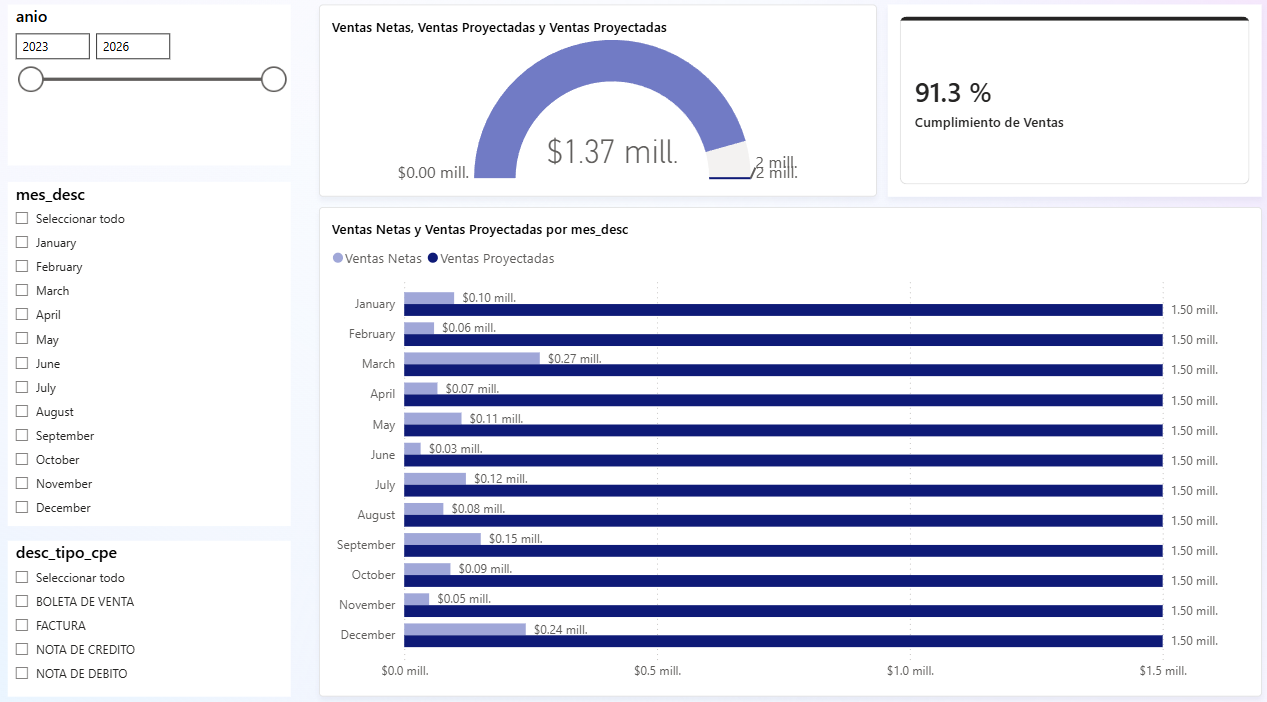

This screenshot's page, from the dashboard's own definition file:
{"tool":"powerbi","page":{"name":"KPI 1 - Cumplimiento de Ventas","canvas":[1280,720],"ordinal":2},"visuals":[{"type":"gauge","fields":{"Y":["_Medidas.Ventas Netas"],"TargetValue":["_Medidas.Ventas Proyectadas"],"MaxValue":["_Medidas.Ventas Proyectadas"]},"box":[323.8,12.5,555,191.2],"z":0},{"type":"cardVisual","fields":{"Data":["_Medidas.Cumplimiento de Ventas"]},"box":[890,12.5,372.5,191.2],"z":1000},{"type":"clusteredBarChart","fields":{"Category":["marts dim_fecha.mes_desc"],"Y":["_Medidas.Ventas Netas","_Medidas.Ventas Proyectadas"]},"box":[323.8,213.8,938.8,487.5],"z":2000},{"type":"slicer","fields":{"Values":["marts dim_fecha.anio"]},"box":[13.8,12.5,281.2,160],"z":3000},{"type":"slicer","fields":{"Values":["marts dim_fecha.mes_desc"]},"box":[13.8,188.8,281.2,342.5],"z":4000},{"type":"slicer","fields":{"Values":["marts dim_tipo_cpe.desc_tipo_cpe"]},"box":[13.8,546.2,281.2,155],"z":5000}]}

Visuals, with their boxes in screenshot pixels (x1, y1, x2, y2), scaled from the page's 1280x720 canvas onto the 1267x702 screenshot:
gauge - _Medidas.Ventas Netas x _Medidas.Ventas Proyectadas: bbox(321, 12, 870, 199)
cardVisual - _Medidas.Cumplimiento de Ventas: bbox(881, 12, 1250, 199)
clusteredBarChart - marts dim_fecha.mes_desc x _Medidas.Ventas Netas: bbox(321, 208, 1250, 684)
slicer - marts dim_fecha.anio: bbox(14, 12, 292, 168)
slicer - marts dim_fecha.mes_desc: bbox(14, 184, 292, 518)
slicer - marts dim_tipo_cpe.desc_tipo_cpe: bbox(14, 533, 292, 684)
